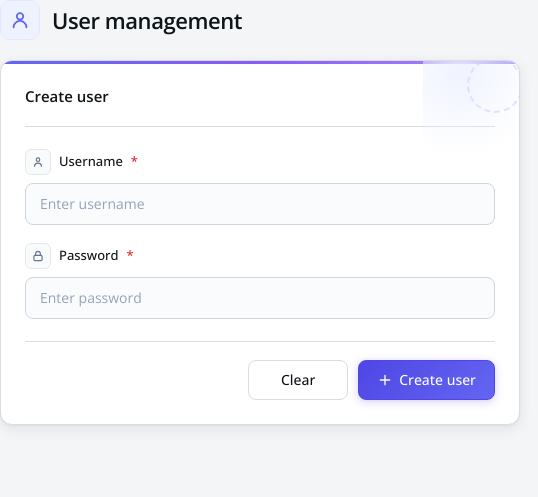
Test case: AdminUserCreationPage › shows required validation on empty submit
Click the button "Create user" at [427, 380], box [358,360,495,400]
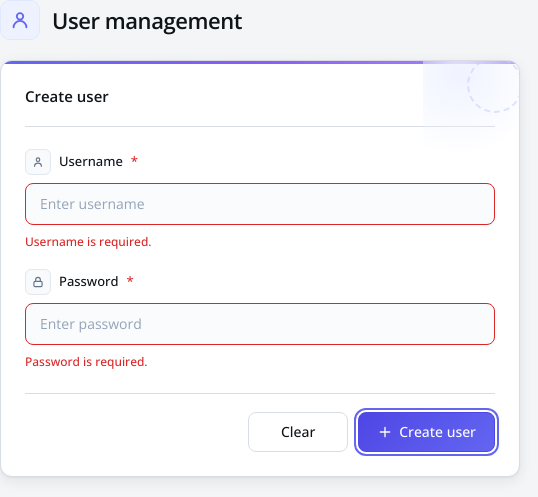
Result: the text "Username is required." is shown at [25,232,152,250]
Result: the text "Password is required." is shown at [25,352,148,370]
